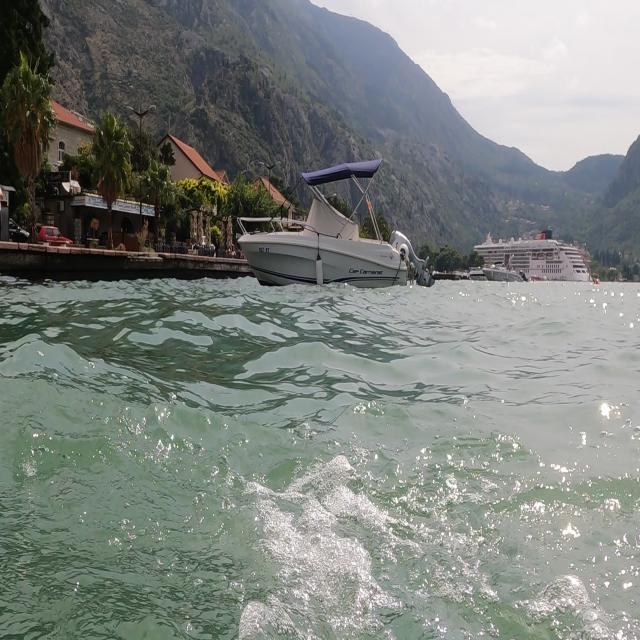boat: (234, 154, 430, 292), (472, 234, 610, 286)
